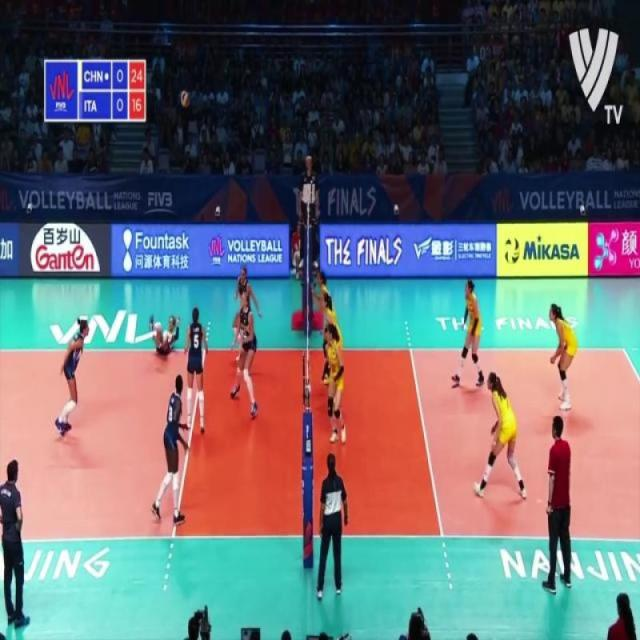volleyball: (504, 237, 521, 264), (179, 87, 189, 110)
